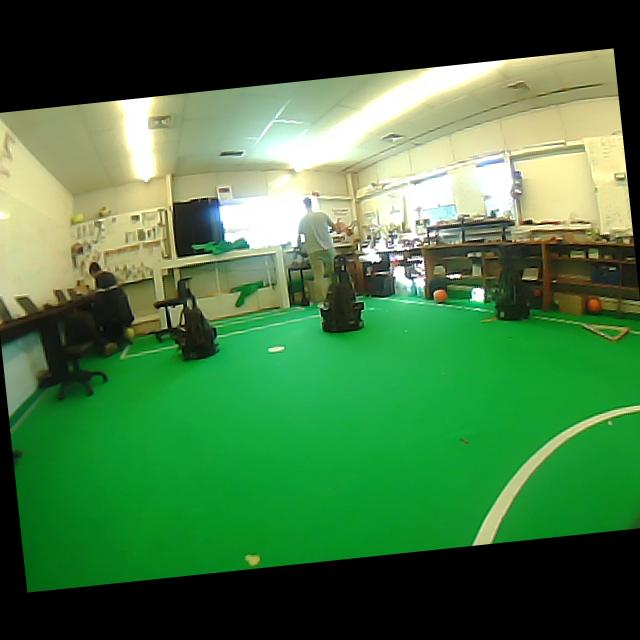ball: (587, 296, 601, 313), (433, 288, 446, 302), (124, 326, 134, 342), (98, 204, 111, 216), (71, 212, 84, 223)
goal: (275, 246, 288, 307)
robot: (174, 277, 218, 359), (320, 256, 363, 331), (495, 247, 529, 320)
